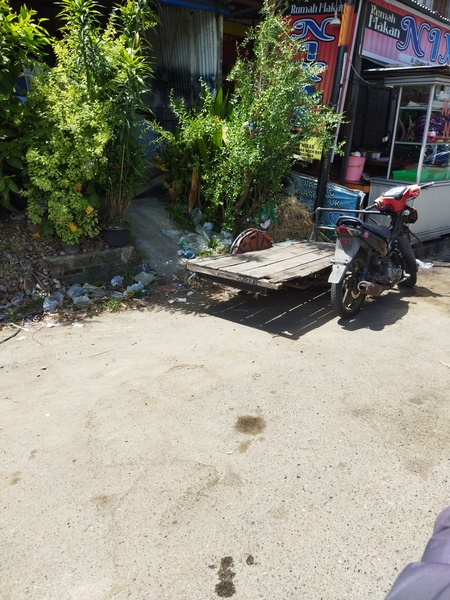becak barang: (184, 178, 436, 323)
